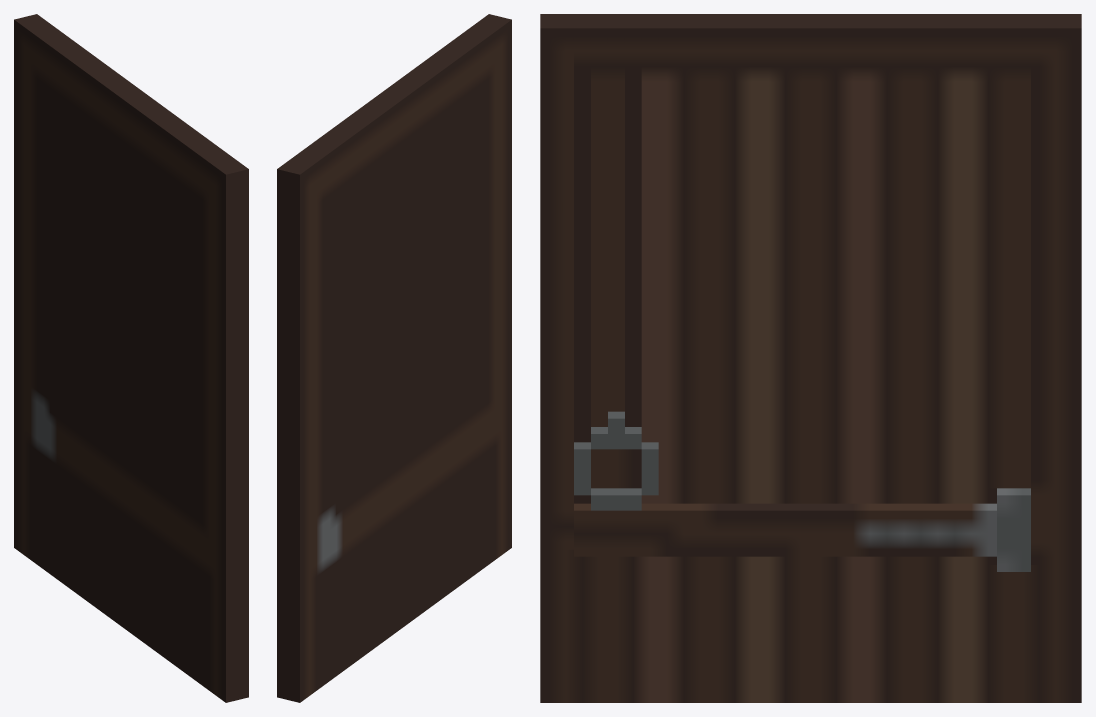
File: Door_WithoutWindow_00.fbx
The picture shows the model from 3 angles, left to right: view 1: azimuth 30°, elevation 25°; view 2: azimuth 150°, elevation 25°; view 3: azimuth 270°, elevation 25°; orthographic projection. The views are drawn at different scales.
Parts seen in each view (by area): view 1: Door_WithoutWindow_00; view 2: Door_WithoutWindow_00; view 3: Door_WithoutWindow_00.
Boxes of the visible parts, left/top/right/bottom form: Door_WithoutWindow_00: left=14, top=14, right=248, bottom=702; Door_WithoutWindow_00: left=277, top=14, right=511, bottom=702; Door_WithoutWindow_00: left=540, top=14, right=1081, bottom=702.
Bounding box in the file's own units: 15 × 220 × 160.
